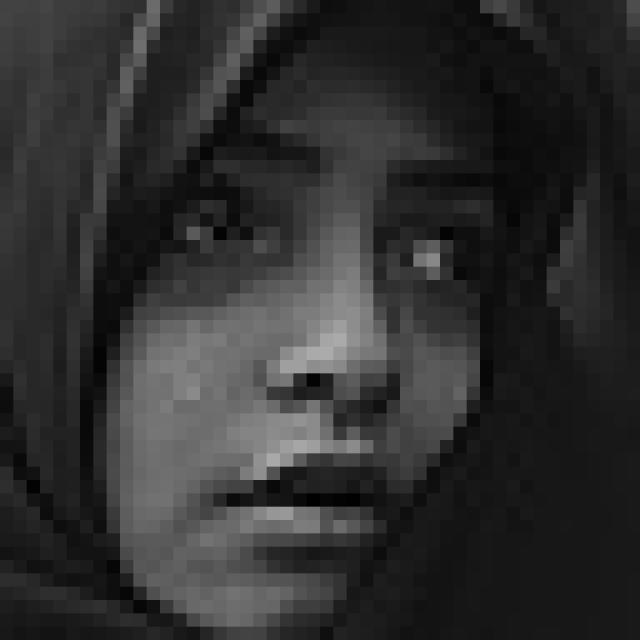sad: (162, 128, 490, 577)
